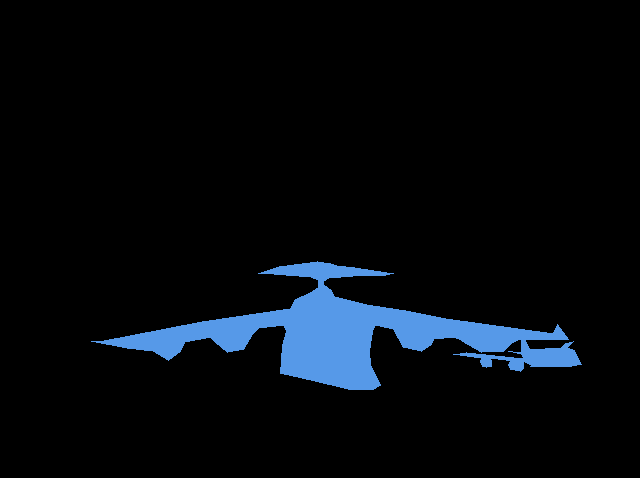Airplane: (91, 261, 568, 390), (453, 340, 582, 371)
